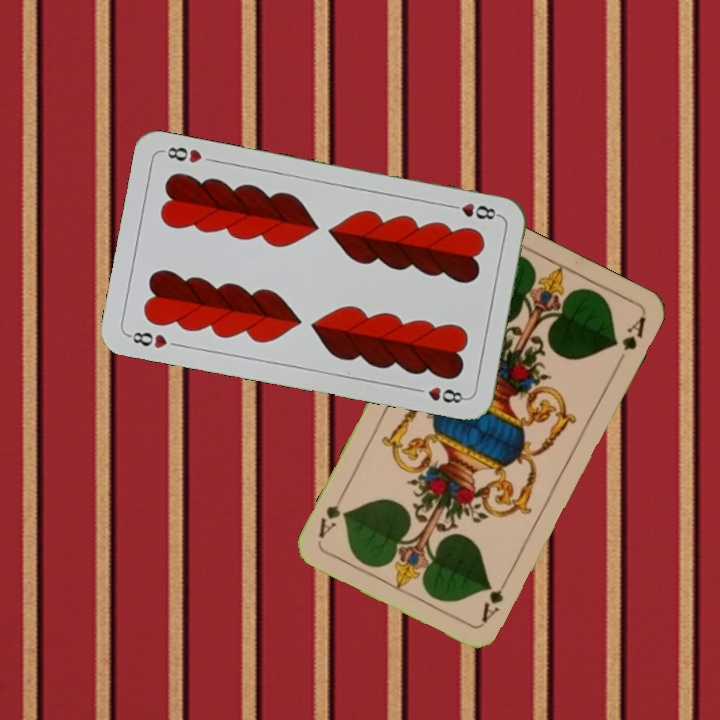GA: (477, 571, 513, 625)
H8: (443, 199, 502, 222), (124, 327, 170, 351)
